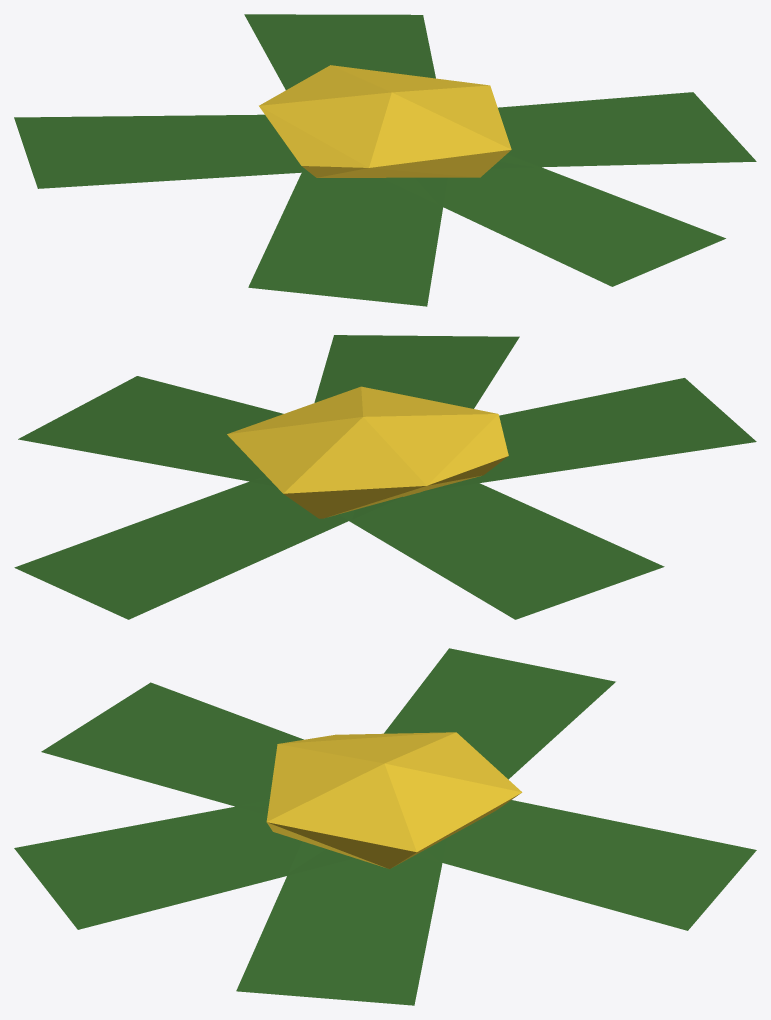
Rendered from Small_Plant_3.fbx.
3 renders of one model, top to bottom at view 1: azimuth 30°, elevation 25°; view 2: azimuth 150°, elevation 25°; view 3: azimuth 270°, elevation 25°, orthographic. The views are drawn at different scales.
Visible parts, largest first — view 1: Small_Plant_3; view 2: Small_Plant_3; view 3: Small_Plant_3.
Boxes of the visible parts, x1,y1,x2,y2 form: Small_Plant_3: (14,14,756,306); Small_Plant_3: (14,335,756,619); Small_Plant_3: (14,648,756,1005).
Bounding box in the file's own units: 276 × 36.28 × 278.
